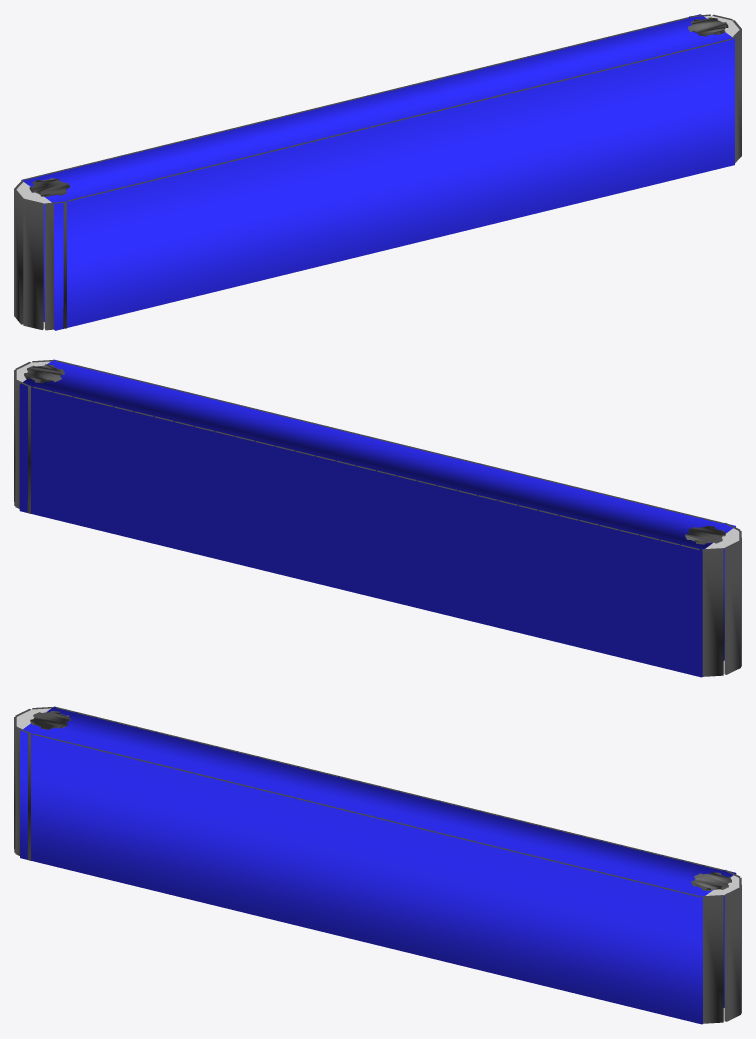
File: conveyBelt.dae
The picture shows the model from 3 angles, top to bottom: view 1: azimuth 30°, elevation 25°; view 2: azimuth 150°, elevation 25°; view 3: azimuth 330°, elevation 25°; orthographic projection.
Visible parts, largest first — view 1: Node_0x7f25ccd160f0 (×7); view 2: Node_0x7f25ccd160f0 (×6); view 3: Node_0x7f25ccd160f0 (×6).
Boxes of the visible parts, box(x1,y1,x2,y2) form: Node_0x7f25ccd160f0 (×7): box(14, 14, 741, 330); Node_0x7f25ccd160f0 (×6): box(15, 359, 740, 677); Node_0x7f25ccd160f0 (×6): box(15, 706, 740, 1024).
Bounding box in the file's own units: 1.58 × 0.2729 × 0.1341.
